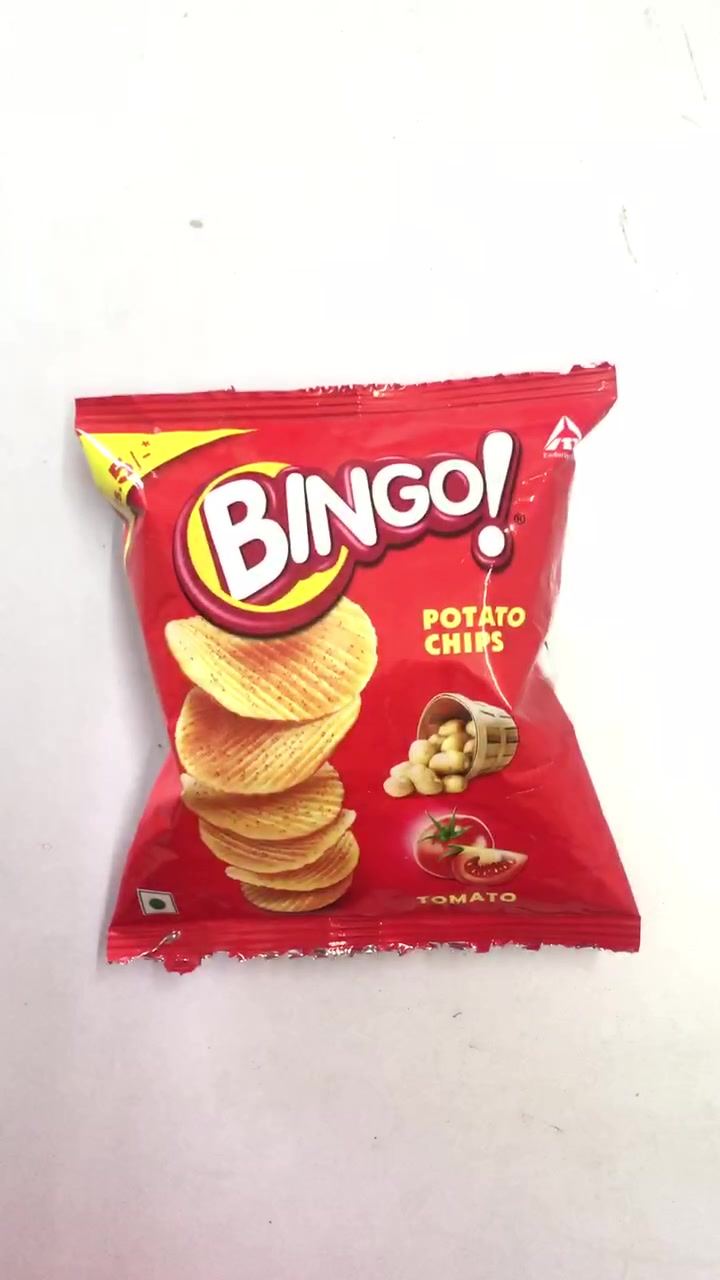Bingo: (89, 380, 630, 948)
